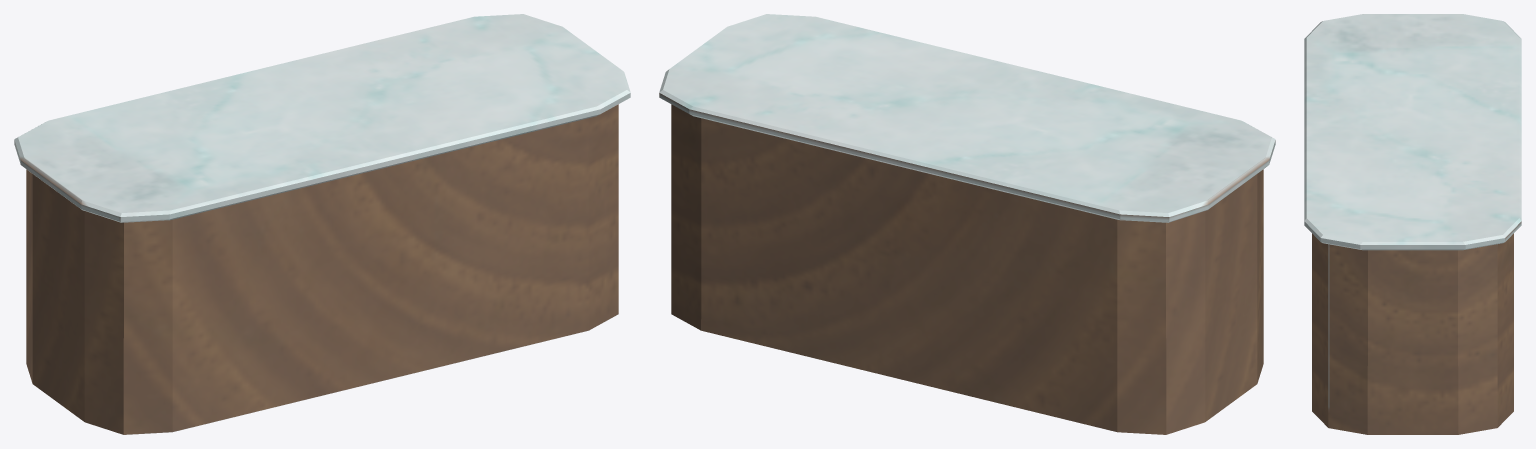
The model's file is Counter.fbx.
The picture shows the model from 3 angles, left to right: view 1: azimuth 30°, elevation 25°; view 2: azimuth 150°, elevation 25°; view 3: azimuth 270°, elevation 25°; orthographic projection. The views are drawn at different scales.
Visible parts, largest first — view 1: Cube.010; view 2: Cube.010; view 3: Cube.010.
Boxes of the visible parts, bbox=[...] form: Cube.010: bbox=[14, 14, 630, 434]; Cube.010: bbox=[659, 14, 1275, 434]; Cube.010: bbox=[1304, 14, 1521, 434].
Size of the model in its own units: 3054 by 1211 by 1221.
